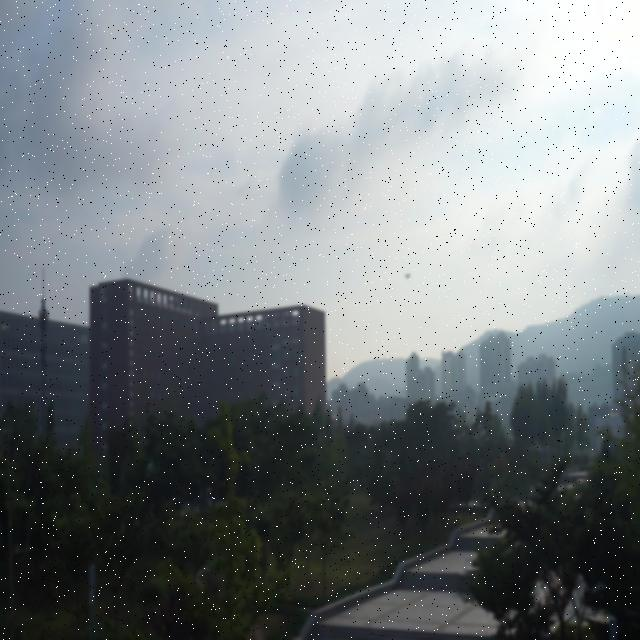UAV: (403, 272, 411, 280)
